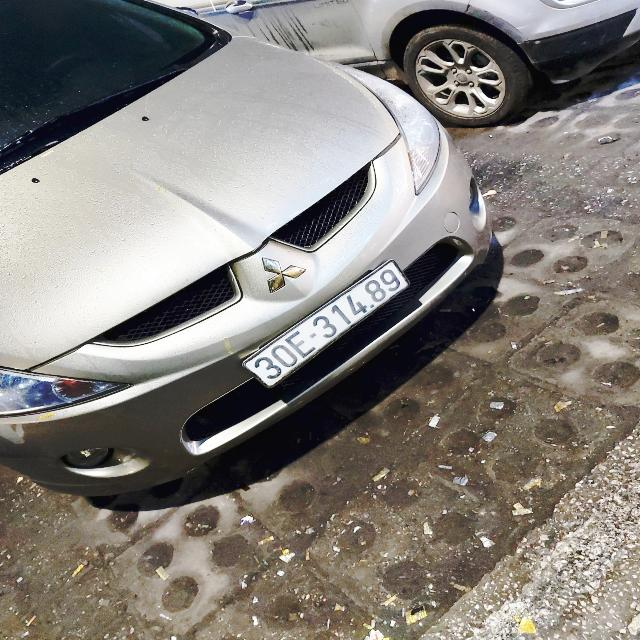license_plate: (241, 256, 418, 392)
